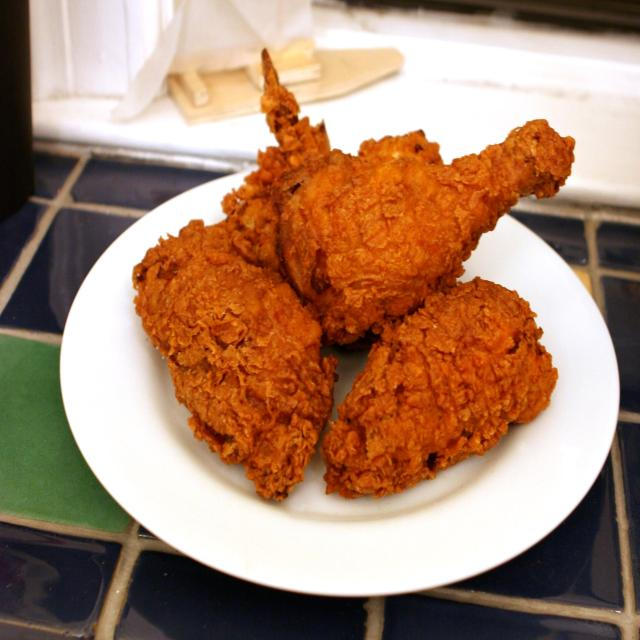Frango: (130, 51, 582, 499)
